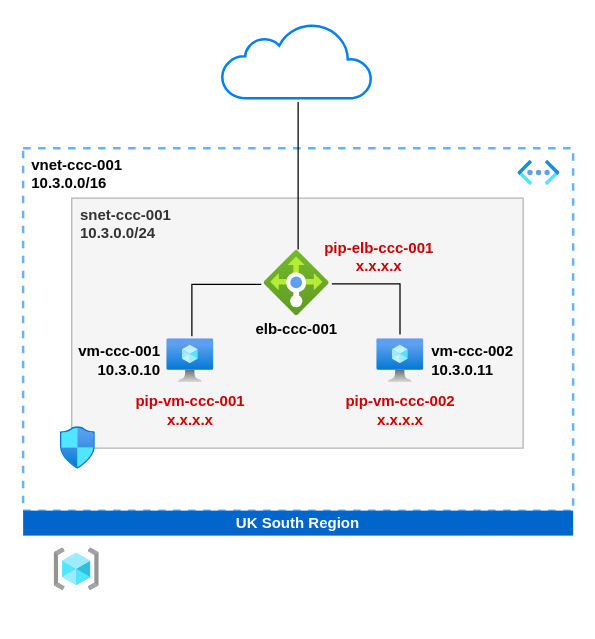
Image size: 595x639. Some labels were removed from this diagram. Here are the shapes that lost their labels. From the top down, the centre of each, then its label:
At (77,447): "nsg-ccc-001".
At (76,569): "rg-ccc-001".
